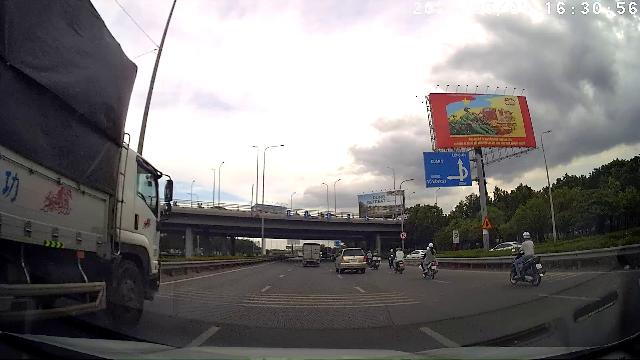123b-cam-re-phai: (400, 232, 407, 239)
